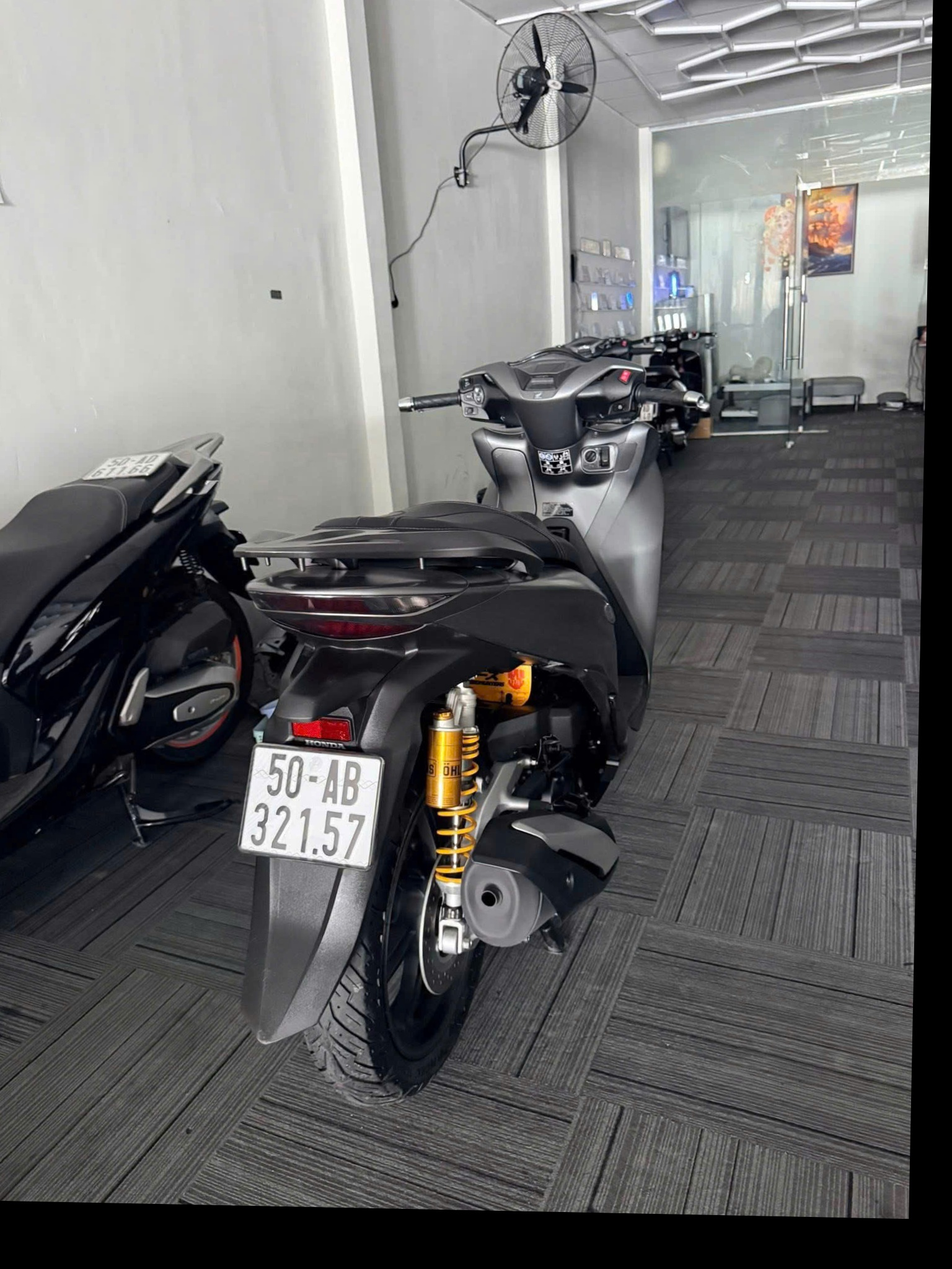Bien-so: (236, 736, 386, 876)
